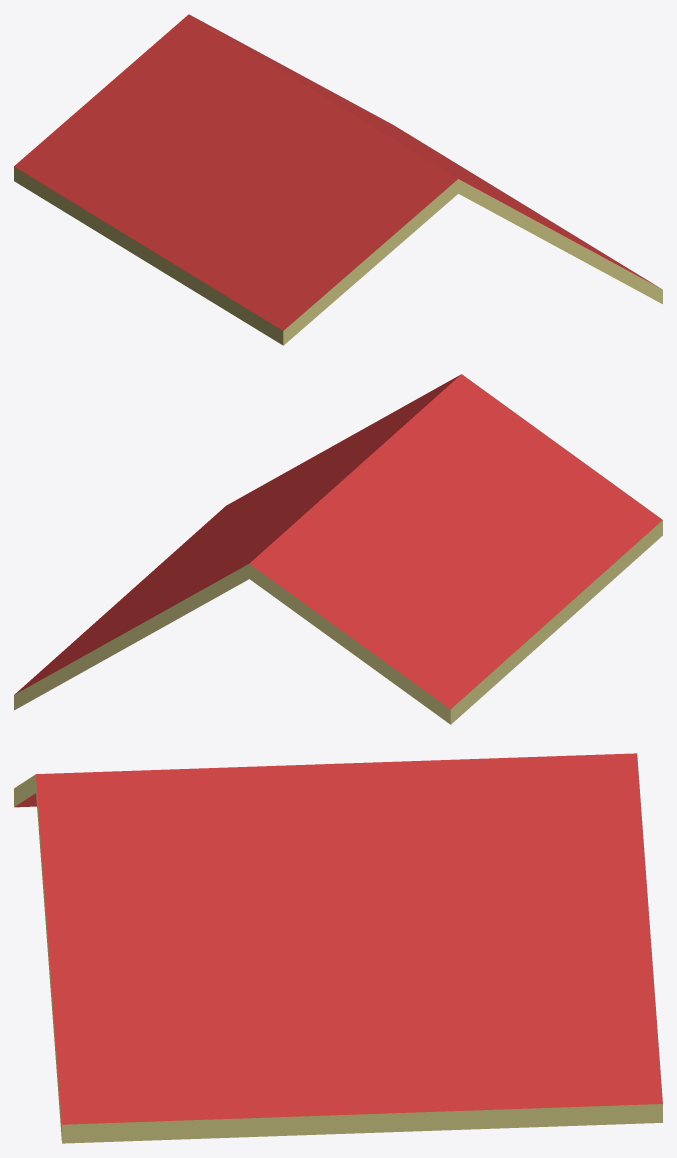
3 renders of one model, top to bottom at view 1: azimuth 30°, elevation 25°; view 2: azimuth 150°, elevation 25°; view 3: azimuth 270°, elevation 25°, orthographic. The views are drawn at different scales.
Visible parts, largest first — view 1: group_3, group_4; view 2: group_3, group_4; view 3: group_3, group_4.
Boxes of the visible parts, x1,y1,x2,y2 form: group_3: (14, 14, 659, 330); group_4: (14, 166, 662, 345); group_3: (15, 374, 662, 708); group_4: (14, 520, 662, 724); group_3: (36, 753, 662, 1124); group_4: (14, 774, 662, 1143).
Bounding box in the file's own units: 3.05 × 3.11 × 1.25.
